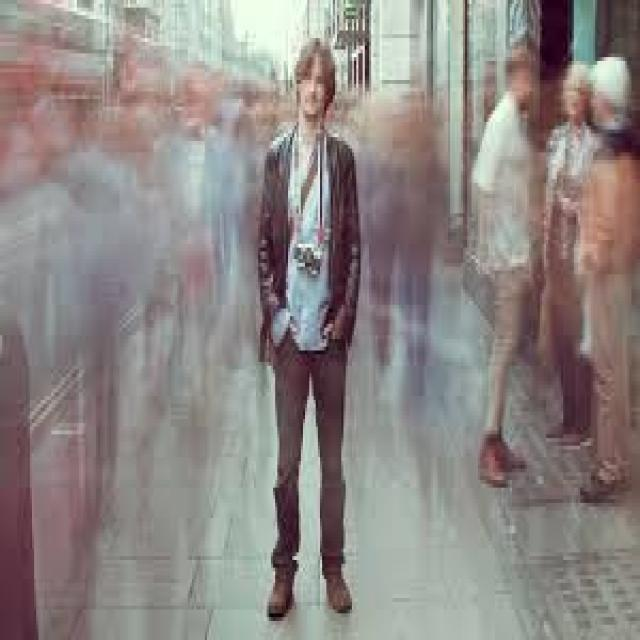Edited images: (245, 22, 373, 628)
